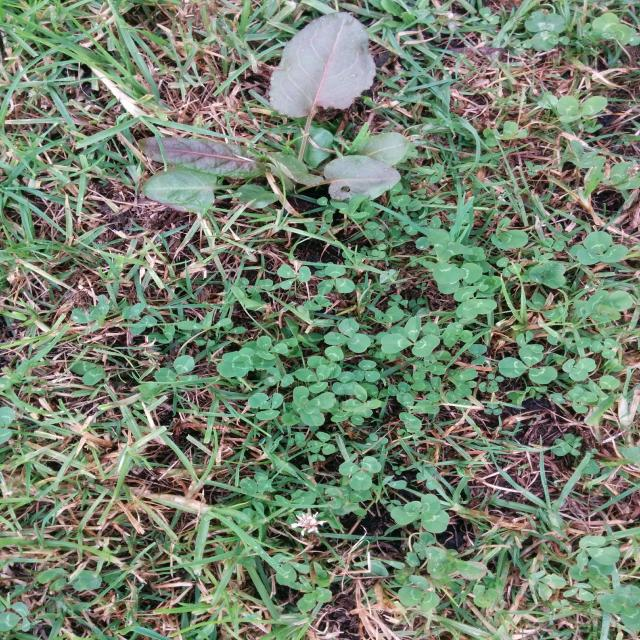Four Leaf Clover: (390, 493, 449, 533)
